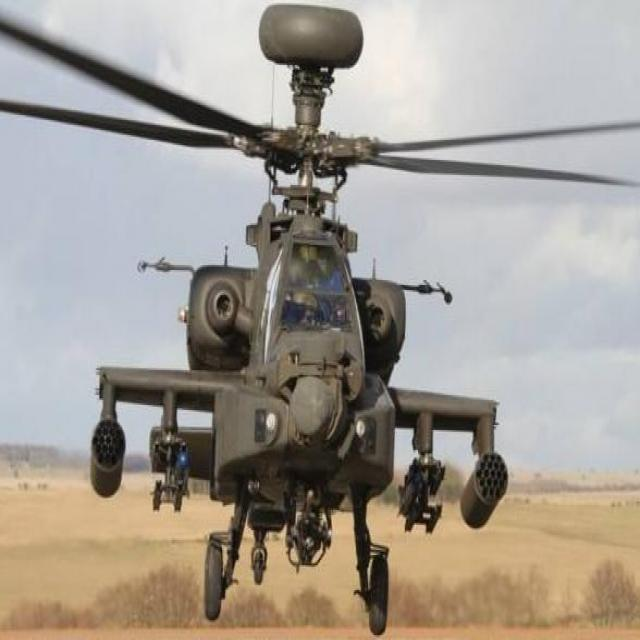MIL_HELO: (2, 0, 631, 634)
